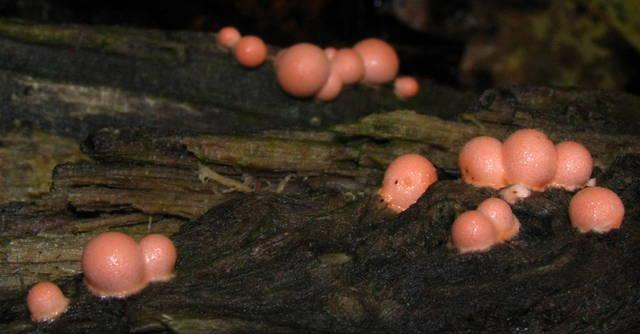Non-edible Mushroom: (374, 126, 625, 253), (318, 9, 417, 103), (457, 126, 594, 191), (80, 229, 177, 298), (375, 152, 438, 214), (502, 127, 557, 190), (274, 41, 329, 96), (567, 185, 625, 235), (457, 134, 506, 188), (548, 139, 594, 190), (476, 196, 521, 242), (450, 209, 497, 253), (139, 232, 177, 283), (25, 280, 70, 323), (233, 34, 267, 67)
